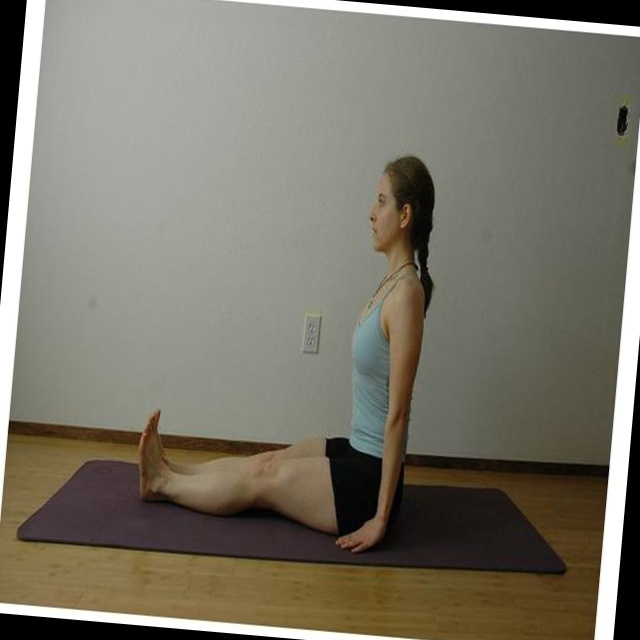Staff_Pose: (138, 155, 437, 551)
